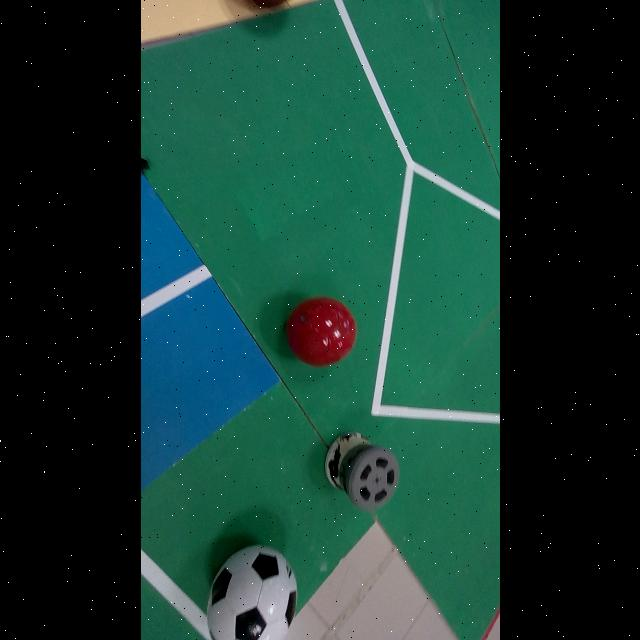R: (286, 297, 356, 367)
